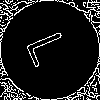L: (25, 25, 79, 69)
